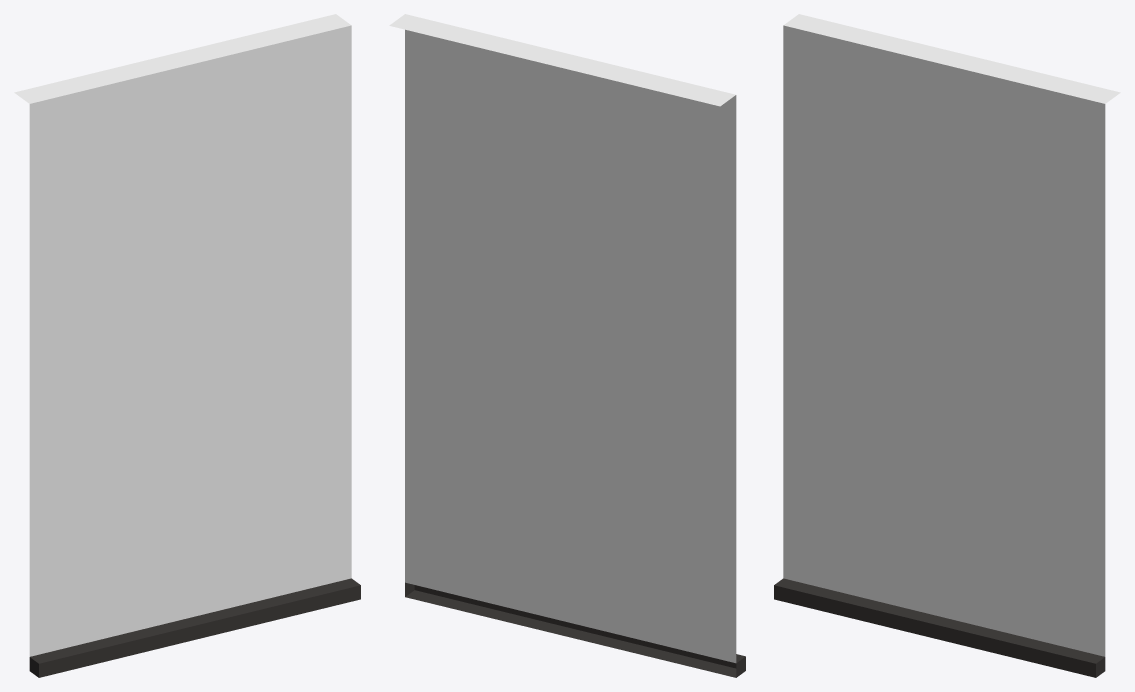
Rendered from 09_wall.FBX.
3 renders of one model, left to right at view 1: azimuth 30°, elevation 25°; view 2: azimuth 150°, elevation 25°; view 3: azimuth 330°, elevation 25°, orthographic. The views are drawn at different scales.
Visible parts, largest first — view 1: 09_wall; view 2: 09_wall; view 3: 09_wall.
Boxes of the visible parts, box(x1,y1,x2,y2) form: 09_wall: box(14, 14, 360, 677); 09_wall: box(389, 14, 745, 677); 09_wall: box(774, 14, 1120, 677).
Size of the model in its own units: 256 by 432 by 34.48.
